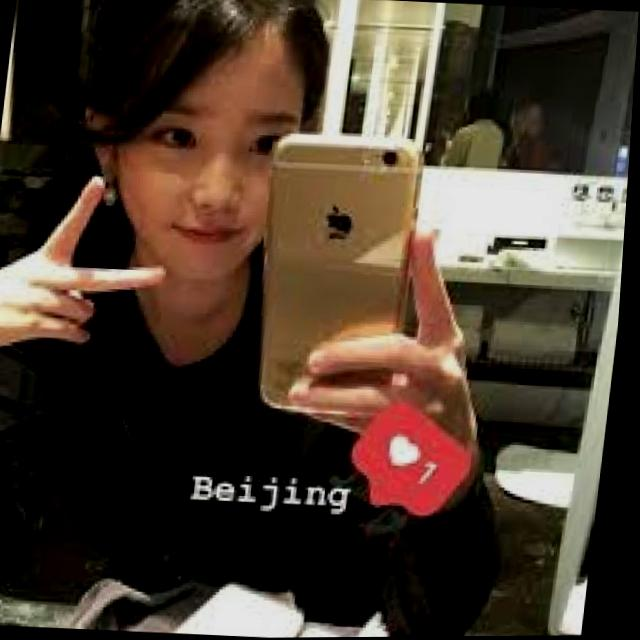Smartphone: (239, 130, 439, 432)
